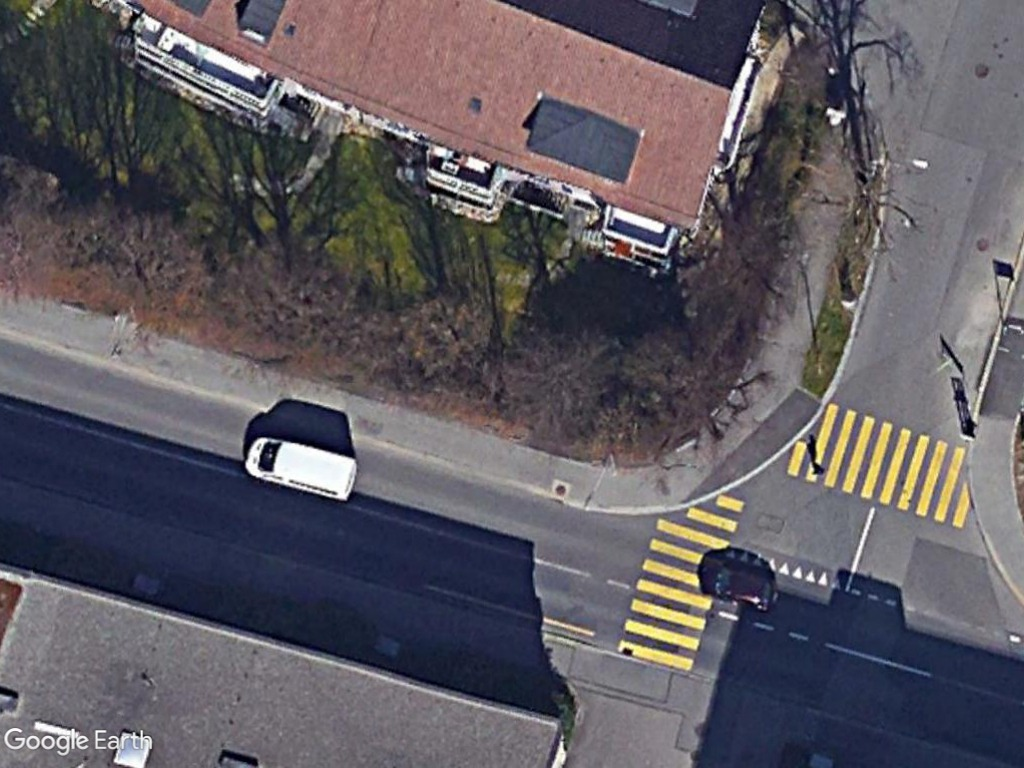car: (700, 562, 780, 614)
van: (242, 433, 360, 504)
